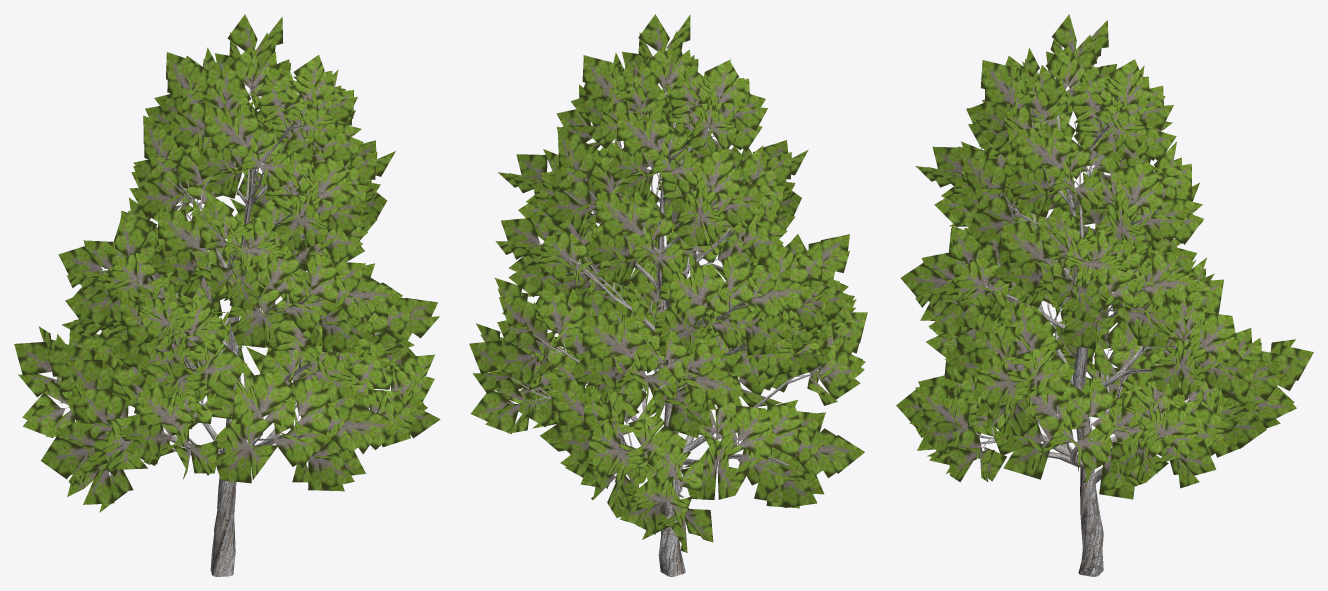
Rendered from beech.glb.
3 renders of one model, left to right at view 1: azimuth 30°, elevation 25°; view 2: azimuth 150°, elevation 25°; view 3: azimuth 270°, elevation 25°, orthographic. The views are drawn at different scales.
Parts seen in each view (by area): view 1: tree.001; view 2: tree.001; view 3: tree.001.
Boxes of the visible parts, x1,y1,x2,y2 form: tree.001: (14, 14, 440, 576); tree.001: (469, 14, 867, 576); tree.001: (896, 14, 1313, 576).
Bounding box in the file's own units: 151 × 214 × 151.
2 materials, 2 textured.
